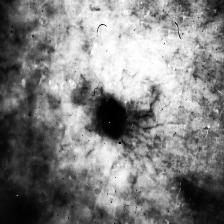Benign Marking or Mole: (96, 98, 128, 138)
